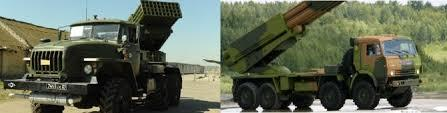MIL_SAM_TEL: (18, 0, 186, 113)
